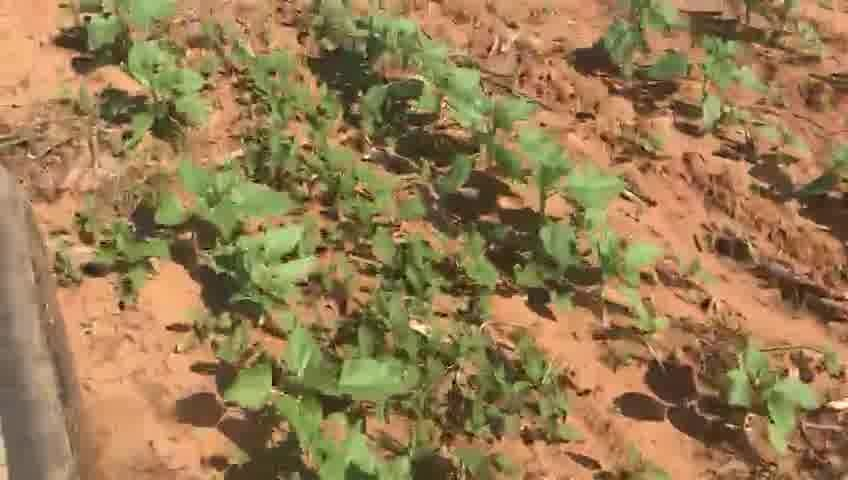sunflower: (214, 328, 411, 466), (196, 225, 330, 315), (705, 344, 819, 446), (152, 161, 294, 239), (121, 41, 206, 145), (532, 156, 631, 240), (588, 226, 663, 327), (434, 66, 539, 137), (492, 128, 563, 217), (80, 10, 149, 59)
